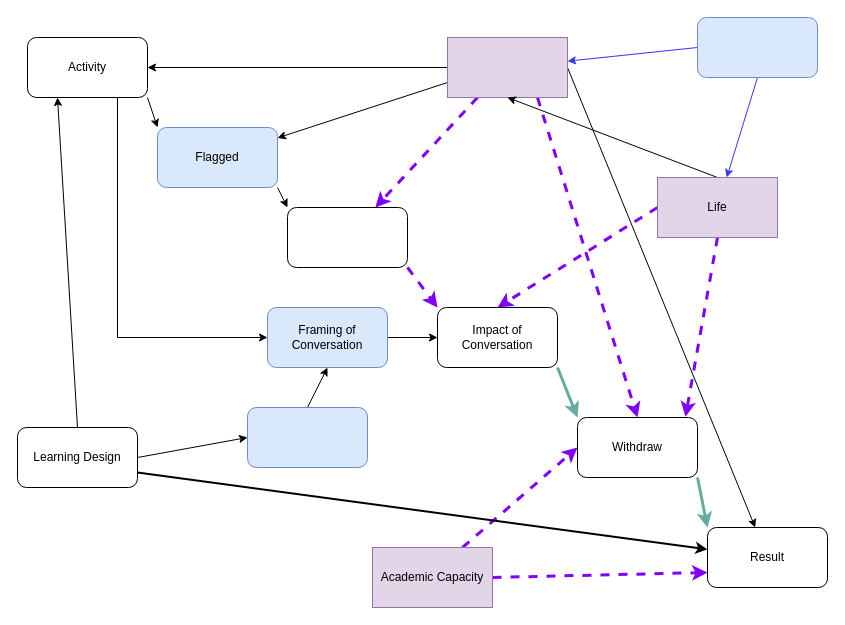
This 845x625 diagram has some shape labels left out. The box of each missing label's shape, as (x1, y1, x2, y2) in pixels:
Answer: (286, 206, 408, 268)
Direction for Caller: (246, 406, 368, 468)
Engagement: (446, 36, 568, 98)
Session: (696, 16, 818, 78)
